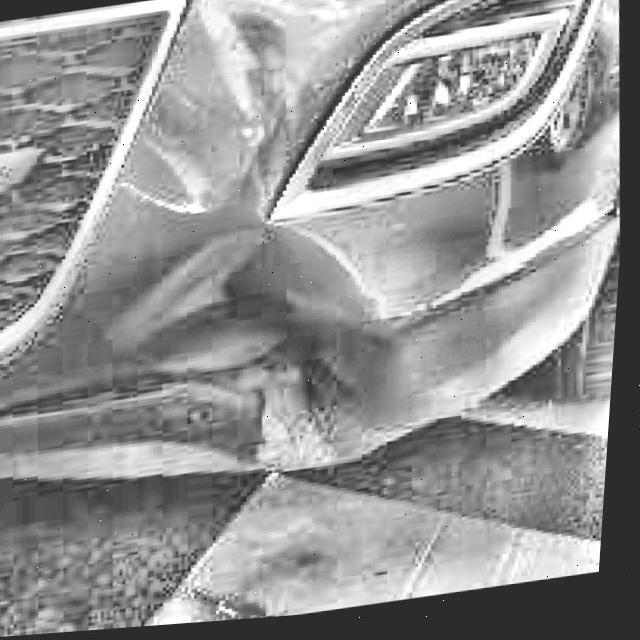bumper_dent: (110, 208, 386, 491)
